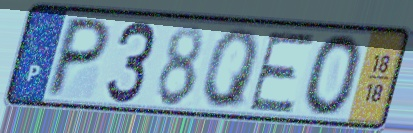3: (102, 17, 158, 107)
8: (152, 21, 209, 108)
E: (245, 31, 319, 115)
O: (301, 31, 366, 119)
P: (41, 14, 115, 100)
Q: (201, 26, 262, 111)
